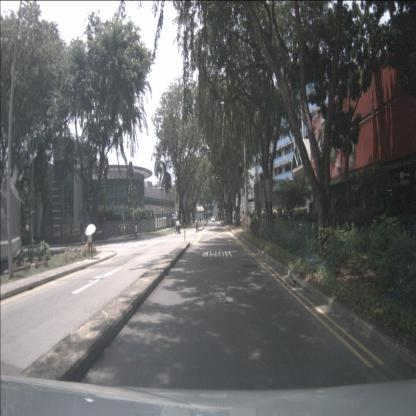human-pedestrian-adult: (84, 223, 97, 259), (242, 212, 246, 229), (134, 223, 138, 240), (175, 219, 179, 235), (284, 209, 288, 225), (177, 219, 181, 234), (196, 216, 199, 232), (263, 208, 266, 224), (139, 221, 142, 234), (199, 217, 202, 225), (202, 218, 205, 224)
movable_object-trafficcone: (64, 248, 68, 261)
vehicle-car: (211, 215, 215, 223)
